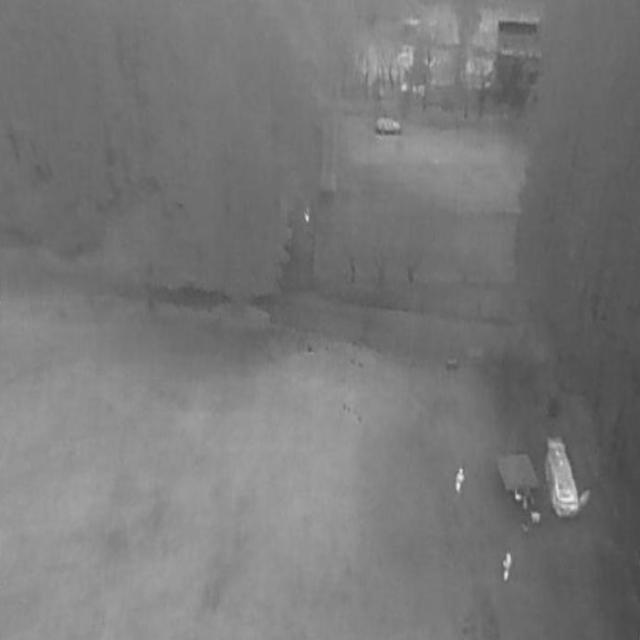person: (502, 552, 513, 585), (455, 468, 466, 496), (304, 208, 311, 224)
